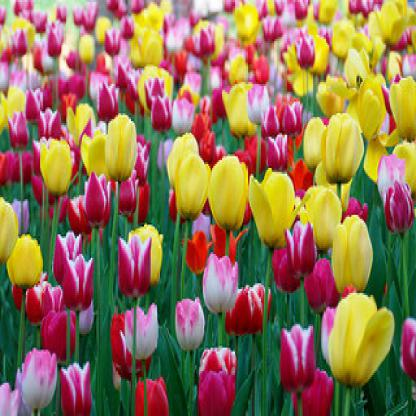TULIP: (6, 31, 404, 400)
